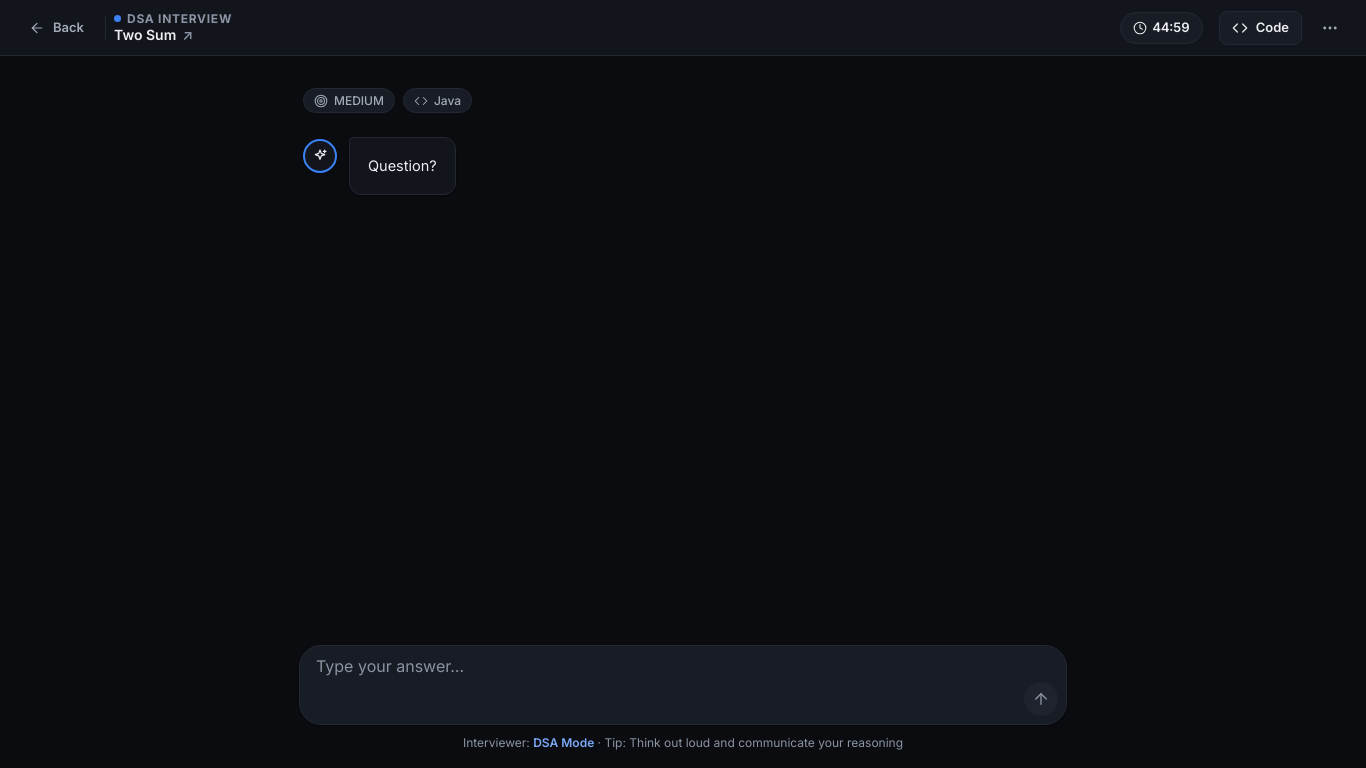
Test: restores the message after a failed turn and retries it
Check: the text "Question?" is shown, box [368,154,437,178]
In the text box with placeholder "Type your answer…": (683, 662) [300,646,1066,678], type "my answer"
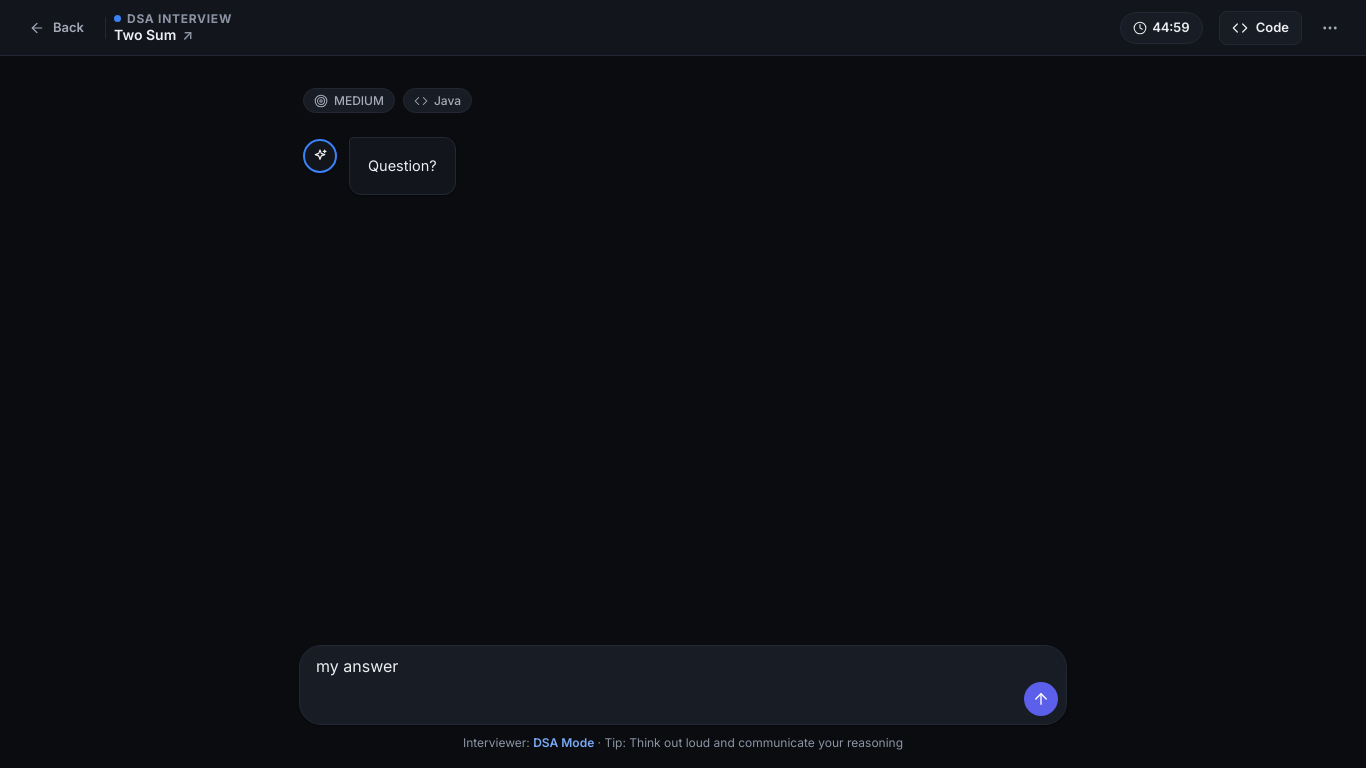
Click the button named "Send message": (1041, 699) [1024,682,1058,716]
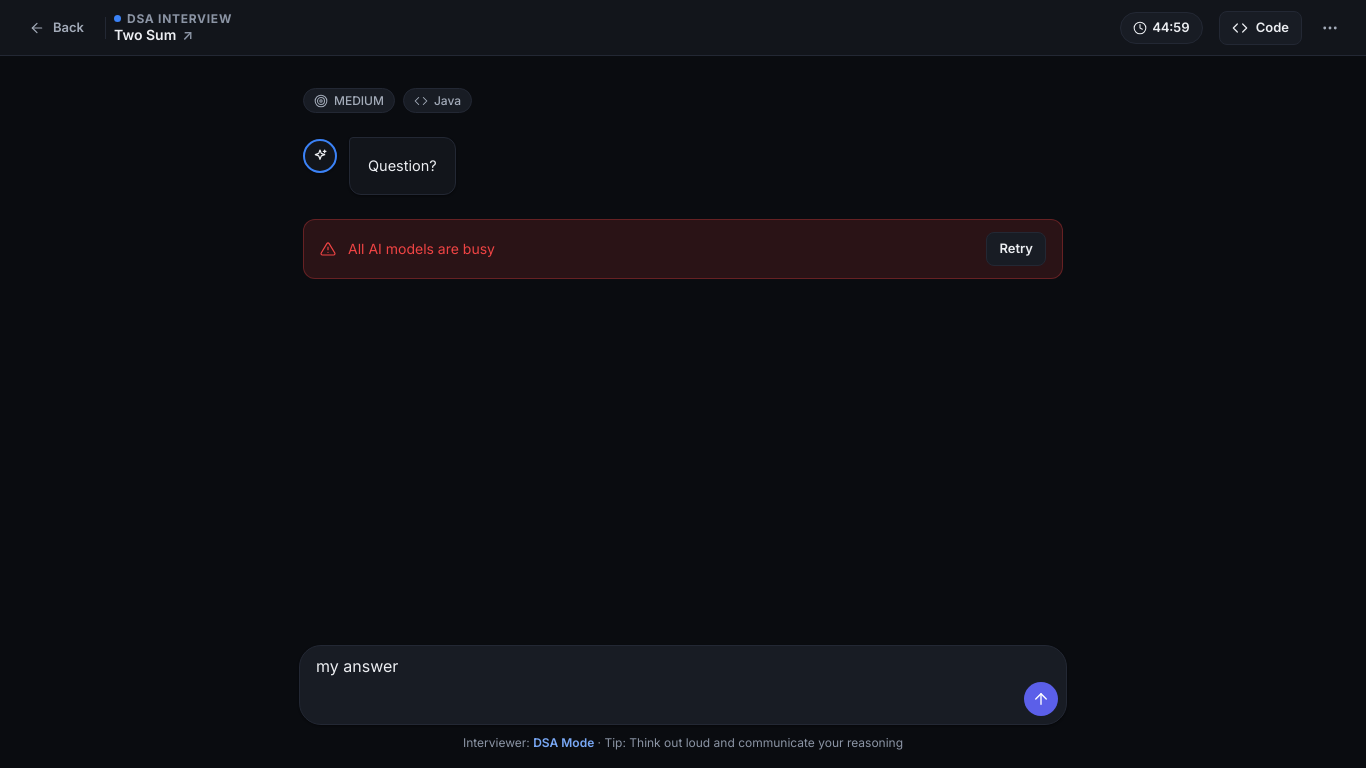
Check: the text "All AI models are busy" is shown, box [348,240,495,257]
Click the button "Retry": (1016, 249) [986,232,1046,266]
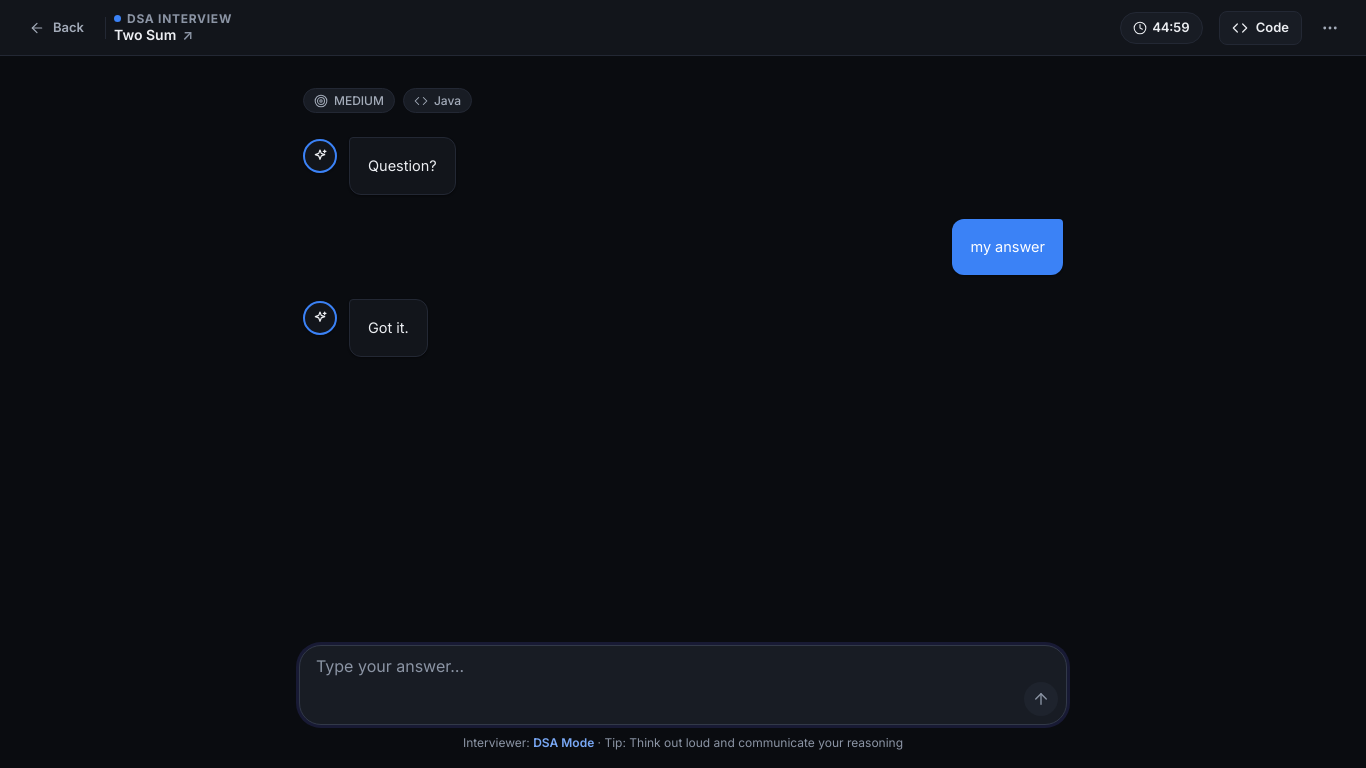
Check: the text "Got it." is shown, box [368,316,409,340]
Check: the text box with placeholder "Type your answer…" is empty, box [300,646,1066,678]
